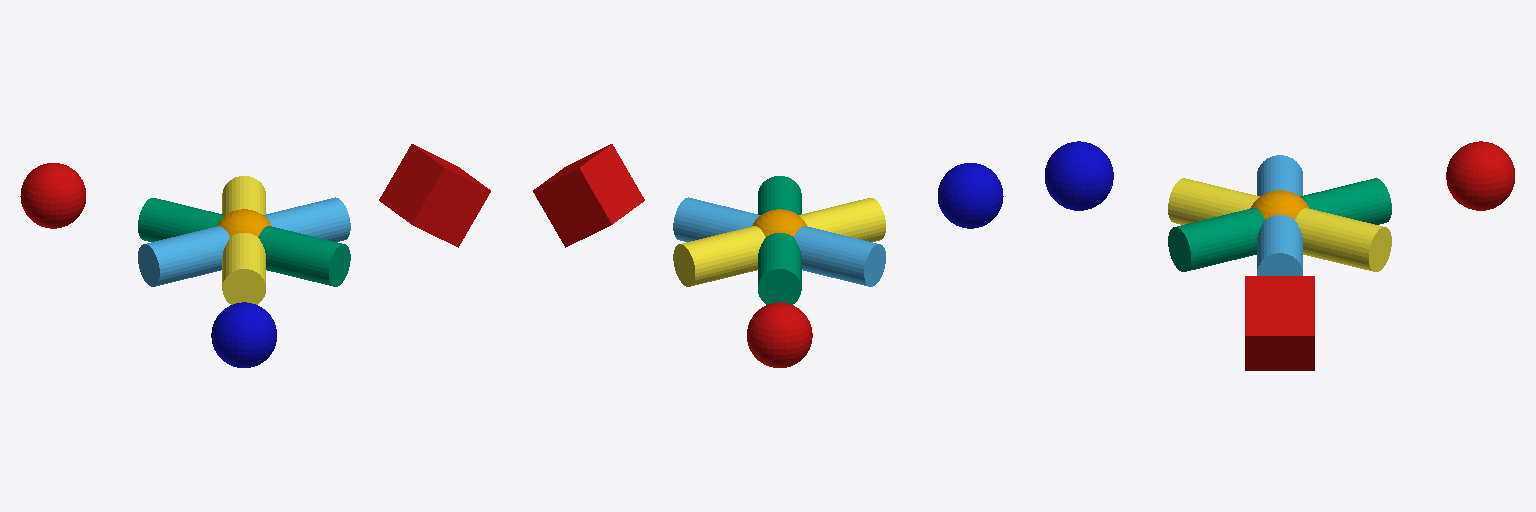
URDF robot description (linkage):
<?xml version="1.0" ?>
<!--simple pbot-->

<robot name="linkage">
    <link name="base_link">
        <inertial>
            <origin xyz="0.0 0.0 0.0" rpy="0 0 0" />
            <mass value="1" />
            <inertia ixx="0.1" iyy="0.1" izz="0.1" ixy="0" ixz="0" iyz="0" />
        </inertial>
<!--         <collision>
            <origin xyz="0.0 0.0 0.0" rpy="0 0 0" />
            <geometry>
                <sphere radius="0.15"/>
            </geometry>
        </collision> -->
        <visual>
            <origin xyz="0.0 0.0 0.0" rpy="0 0 0" />
            <geometry>
                <sphere radius="0.15"/>
            </geometry>
        </visual>
    </link>
    <link name="link0">
        <inertial>
            <origin xyz="1.0 0.0 0.0" rpy="0 0 0" />
            <mass value="1" />
            <inertia ixx="0.1" iyy="0.1" izz="0.1" ixy="0" ixz="0" iyz="0" />
        </inertial>
<!--         <collision>
            <origin xyz="1.0 0.0 0.0" rpy="0 0 0" />
            <geometry>
                <sphere radius="0.15" />
            </geometry>
        </collision> -->
        <visual>
            <origin xyz="0.0 0.0 0.0" rpy="0 1.57079632679 0" />
            <geometry>
                <cylinder radius="0.1" length="1.0" />
            </geometry>
        </visual>
        <visual>
            <origin xyz="1.0 0.0 0.0" rpy="0 -0.9553164380546082 0" />
            <geometry>
                <box size="0.30 0.30 0.30" />
            </geometry>
            <material name="material_red">
                <color rgba="0.8 0.1 0.1 1.0" />
            </material>
        </visual>
    </link>
    <link name="link1">
        <inertial>
            <origin xyz="1.0 0.0 0.0" rpy="0 0 0" />
            <mass value="1" />
            <inertia ixx="0.1" iyy="0.1" izz="0.1" ixy="0" ixz="0" iyz="0" />
        </inertial>
<!--         <collision>
            <origin xyz="1.0 0.0 0.0" rpy="0 0 0" />
            <geometry>
                <sphere radius="0.15" />
            </geometry>
        </collision> -->
        <visual>
            <origin xyz="0.0 0.0 0.0" rpy="0 1.57079632679 0" />
            <geometry>
                <cylinder radius="0.1" length="1.0" />
            </geometry>
        </visual>
        <visual>
            <origin xyz="1.0 0.0 0.0" rpy="0 0 0" />
            <geometry>
                <sphere radius="0.15" />
            </geometry>
            <material name="material_red">
                <color rgba="0.8 0.1 0.1 1.0" />
            </material>
        </visual>
    </link>
    <link name="link2">
        <inertial>
            <origin xyz="1.0 0.0 0.0" rpy="0 0 0" />
            <mass value="1" />
            <inertia ixx="0.1" iyy="0.1" izz="0.1" ixy="0" ixz="0" iyz="0" />
        </inertial>
<!--         <collision>
            <origin xyz="1.0 0.0 0.0" rpy="0 0 0" />
            <geometry>
                <sphere radius="0.15" />
            </geometry>
        </collision> -->
        <visual>
            <origin xyz="0.0 0.0 0.0" rpy="0 1.57079632679 0" />
            <geometry>
                <cylinder radius="0.1" length="1.0" />
            </geometry>
        </visual>
        <visual>
            <origin xyz="1.0 0.0 0.0" rpy="0 0 0" />
            <geometry>
                <sphere radius="0.15" />
            </geometry>
            <material name="material_blue">
                <color rgba="0.1 0.1 0.8 1.0" />
            </material>
        </visual>
    </link>
    
    <joint name="j0" type="revolute">
        <parent link="base_link" />
        <child link="link0" />
        <origin xyz="0.000000 0.000000 0.000000" rpy="-0.000000 0.000000 -0.000000" />
        <axis xyz="0 1 0" />
        <limit lower="-2.967" upper="2.967" effort="176" velocity="1.7104" />
    </joint>
    <joint name="j1" type="revolute">
        <parent link="base_link" />
        <child link="link1" />
        <origin xyz="0.000000 0.000000 0.000000" rpy="-0.000000 0.000000 2.0943951023" />
        <axis xyz="0 1 0" />
        <limit lower="-2.967" upper="2.967" effort="176" velocity="1.7104" />
    </joint>
    <joint name="j2" type="revolute">
        <parent link="base_link" />
        <child link="link2" />
        <origin xyz="0.000000 0.000000 0.000000" rpy="-0.000000 0.000000 -2.0943951023" />
        <axis xyz="0 1 0" />
        <limit lower="-2.967" upper="2.967" effort="176" velocity="1.7104" />
    </joint>
    
</robot>

--- Facts derived from the render (not from the file) ---
3 views of the same robot in one strip: view 1: azimuth 30°, elevation 25°; view 2: azimuth 150°, elevation 25°; view 3: azimuth 270°, elevation 25° (orthographic).
Robot: linkage — 4 links, 3 joints (3 revolute); root link base_link; default pose: all joints at 0.
Visible links, largest first — view 1: link0, link1, link2, base_link; view 2: link0, link2, link1, base_link; view 3: link0, link1, link2, base_link.
Boxes of the visible links, x1,y1,x2,y2 form: link0: (138, 144, 490, 286); link1: (20, 163, 350, 286); link2: (211, 176, 276, 367); base_link: (217, 209, 271, 236); link0: (533, 144, 885, 286); link2: (673, 163, 1003, 286); link1: (747, 176, 812, 367); base_link: (752, 209, 806, 236); link0: (1245, 155, 1314, 370); link1: (1168, 141, 1514, 271); link2: (1045, 141, 1391, 271); base_link: (1250, 190, 1309, 219).
Size in the robot's own frame: 1.86 by 2.03 by 0.4182 metres.
Geometry: primitives only (box / cylinder / sphere), no mesh files.